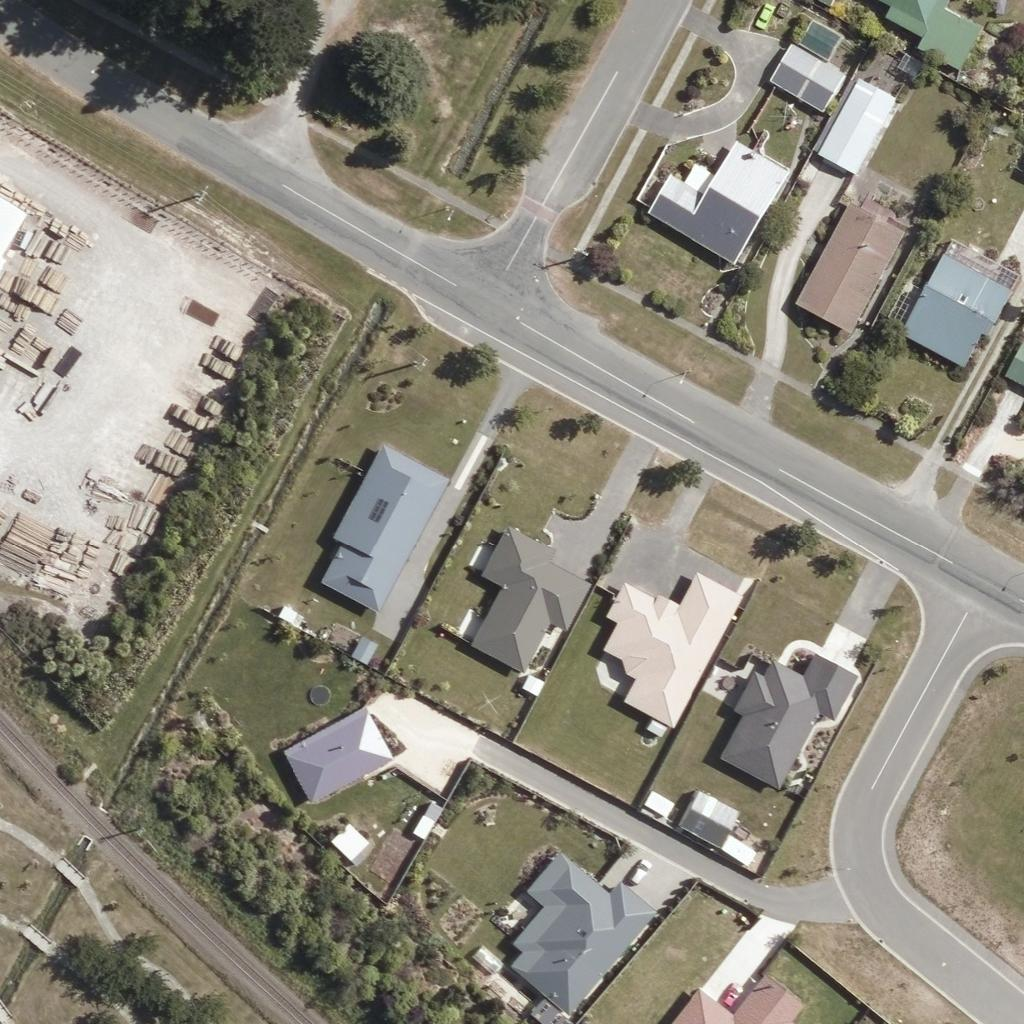car: (622, 855, 656, 889), (713, 978, 747, 1012), (747, 0, 781, 32)
